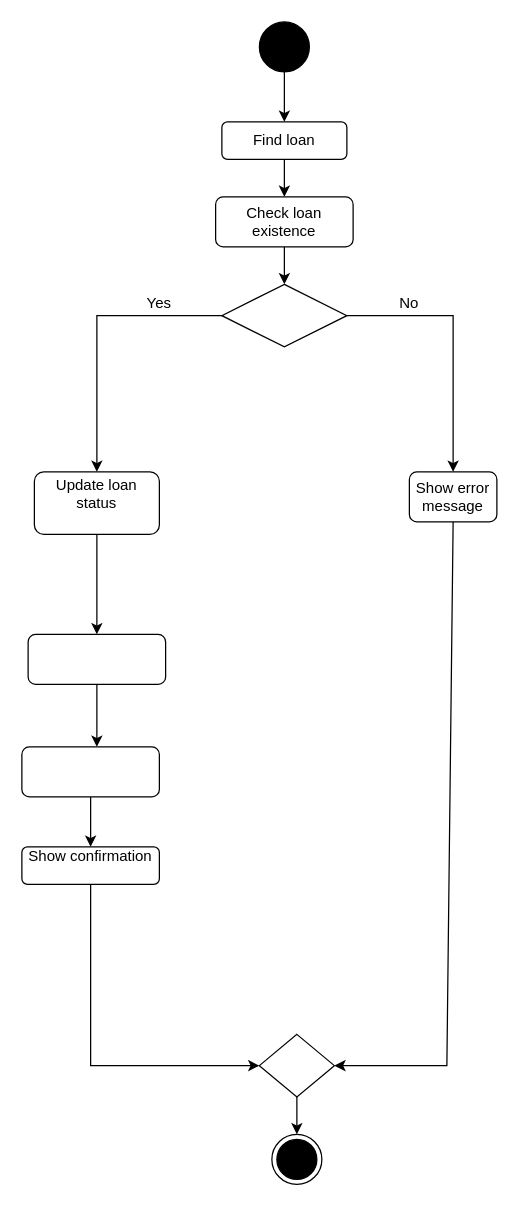
This 519x1206 diagram has some shape labels left out. The box of each missing label's shape, as (x1, y1, x2, y2) in pixels:
Increase book copies: (27, 633, 166, 684)
Update system data: (21, 746, 159, 797)
